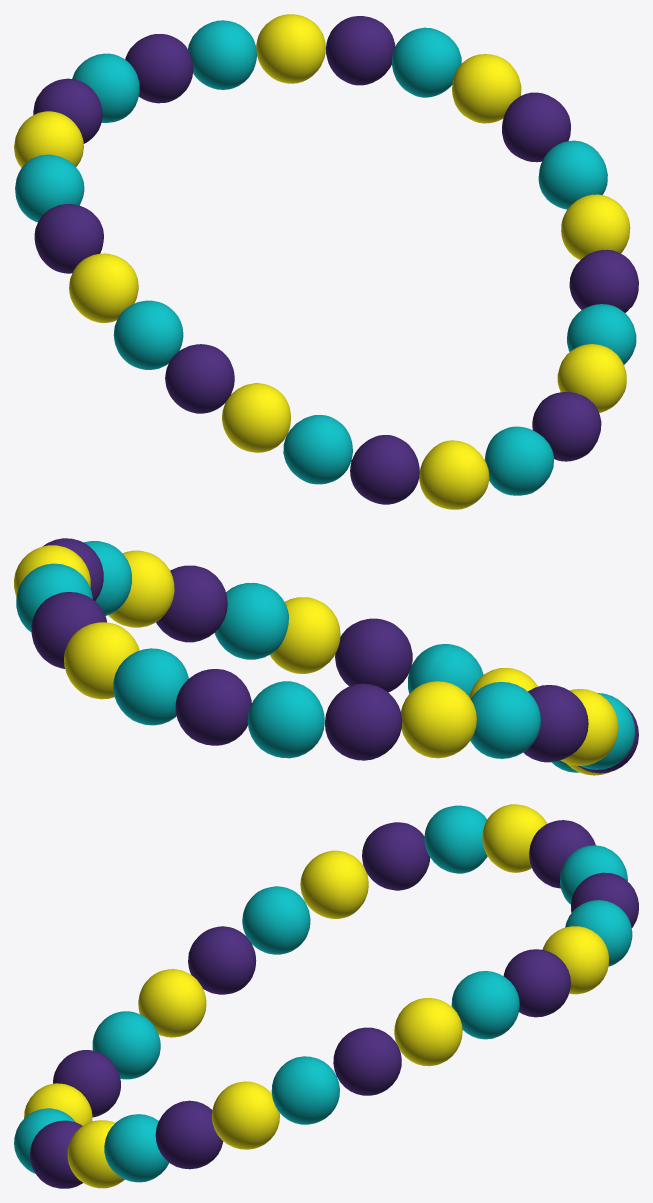
File: Pearl Necklace.fbx
The picture shows the model from 3 angles, top to bottom: view 1: azimuth 30°, elevation 25°; view 2: azimuth 150°, elevation 25°; view 3: azimuth 270°, elevation 25°; orthographic projection. The views are drawn at different scales.
Parts seen in each view (by area): view 1: Pearl Necklace; view 2: Pearl Necklace; view 3: Pearl Necklace.
Part boxes in pixels (x1=…): Pearl Necklace: x1=14, y1=14, x2=638, y2=509; Pearl Necklace: x1=14, y1=538, x2=638, y2=775; Pearl Necklace: x1=14, y1=804, x2=638, y2=1188.
Bounding box in the file's own units: 9.46 × 4.77 × 10.08.
